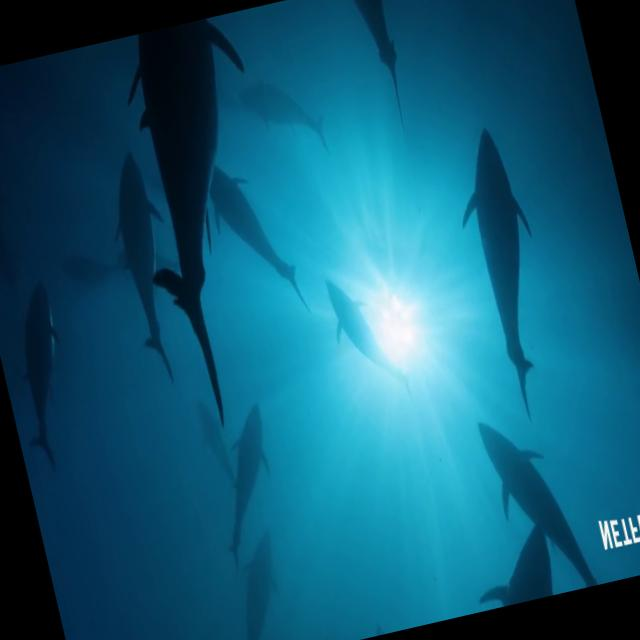fish: (97, 11, 330, 458), (428, 117, 596, 435), (88, 137, 207, 396), (476, 404, 604, 602), (0, 273, 99, 491), (188, 399, 302, 579), (200, 171, 315, 322), (312, 260, 413, 410), (205, 530, 303, 640), (350, 0, 418, 132), (463, 528, 563, 612)
